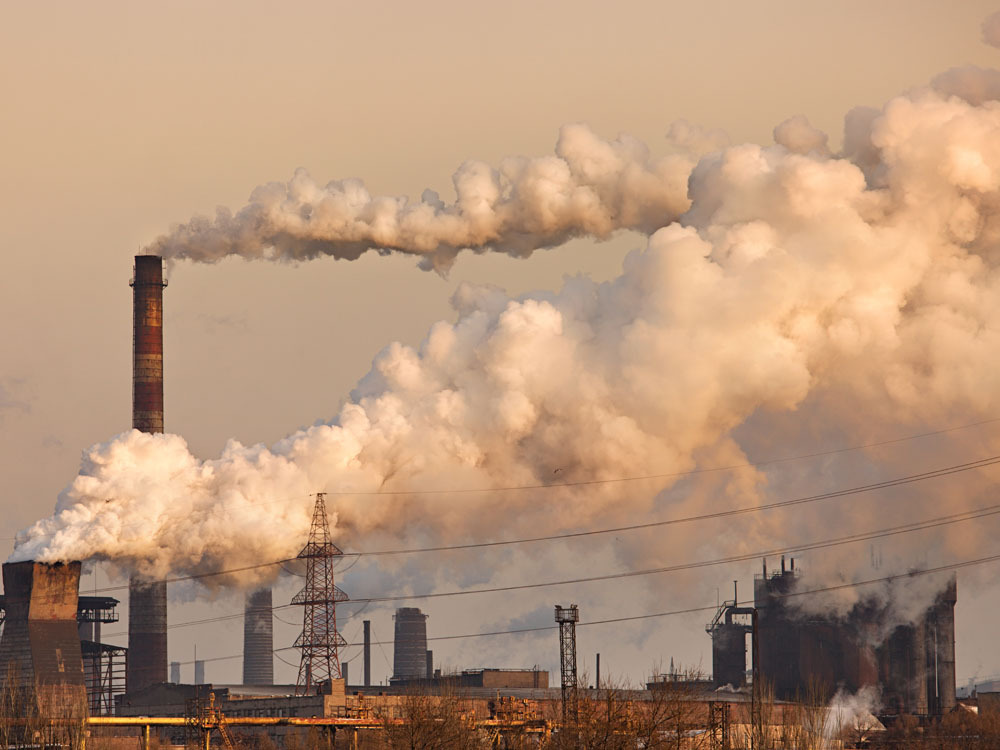dust: (11, 410, 385, 580), (126, 152, 448, 280)
